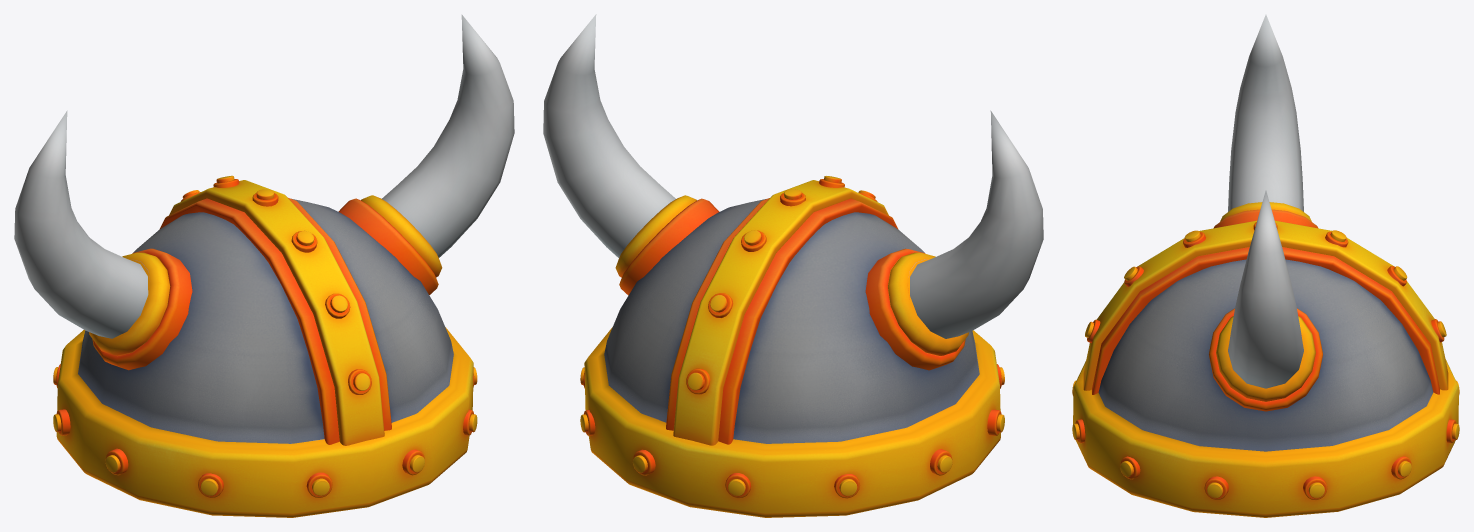
Rendered from Viking_Hat.glb.
The picture shows the model from 3 angles, left to right: view 1: azimuth 30°, elevation 25°; view 2: azimuth 150°, elevation 25°; view 3: azimuth 270°, elevation 25°; orthographic projection. The views are drawn at different scales.
Parts seen in each view (by area): view 1: Viking_Hat; view 2: Viking_Hat; view 3: Viking_Hat.
Boxes of the visible parts, x1,y1,x2,y2 form: Viking_Hat: [14, 14, 514, 517]; Viking_Hat: [543, 14, 1043, 517]; Viking_Hat: [1072, 14, 1459, 517].
Bounding box in the file's own units: 0.6715 × 0.4838 × 0.5025.
Materials: 1 (1 with a texture image).
